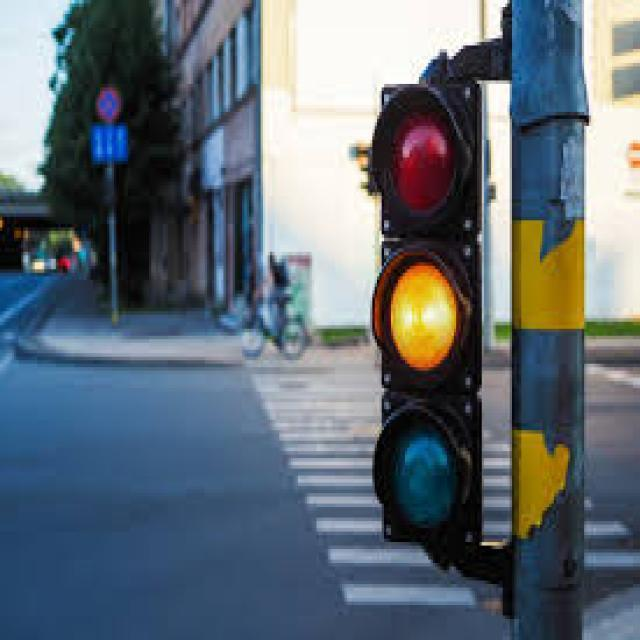yellow_light: (369, 85, 480, 549)
